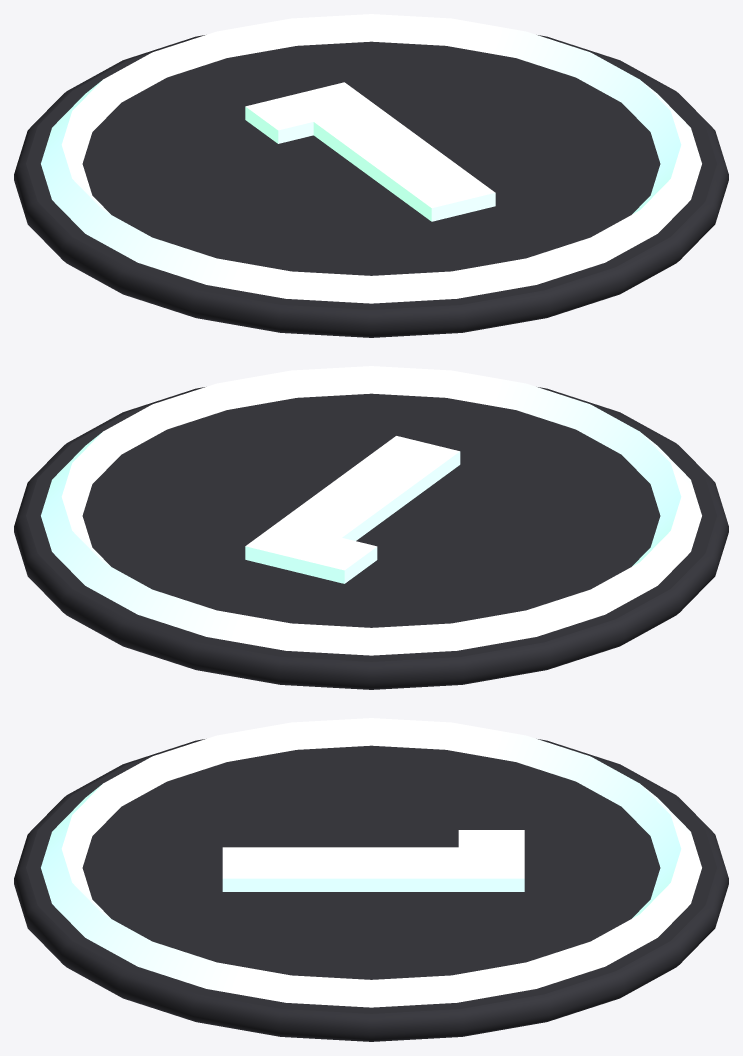
The model's file is kr_joinpad_1_on.glb.
3 views of the same model, one above another, from view 1: azimuth 30°, elevation 25°; view 2: azimuth 150°, elevation 25°; view 3: azimuth 270°, elevation 25° (orthographic).
Parts seen in each view (by area): view 1: vc_m0_r4, kr_joinpad_1_on_neongreen; view 2: vc_m0_r4, kr_joinpad_1_on_neongreen; view 3: vc_m0_r4, kr_joinpad_1_on_neongreen.
Boxes of the visible parts, box(x1,y1,x2,y2) form: vc_m0_r4: box(14, 35, 728, 337); kr_joinpad_1_on_neongreen: box(41, 14, 701, 303); vc_m0_r4: box(14, 387, 728, 689); kr_joinpad_1_on_neongreen: box(41, 366, 701, 655); vc_m0_r4: box(14, 739, 728, 1041); kr_joinpad_1_on_neongreen: box(41, 718, 701, 1007).
Size of the model in its own units: 1.2 by 0.085 by 1.2.
